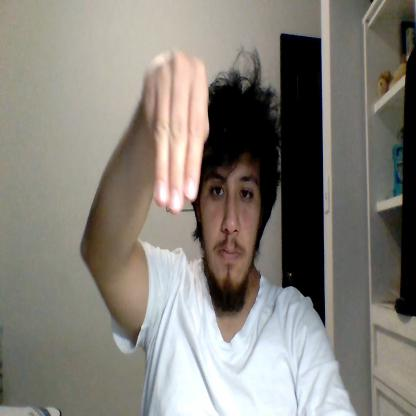M: (143, 47, 209, 214)
